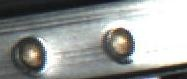joints: (98, 22, 136, 63), (10, 33, 47, 73)
